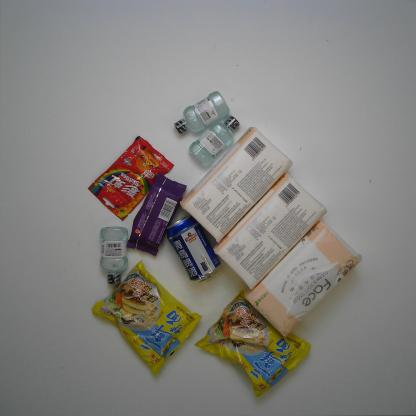Alcohol: (163, 216, 225, 286)
Candy: (86, 132, 176, 222)
Dessert: (122, 168, 188, 258)
Instant Noodles: (192, 288, 313, 400), (90, 260, 204, 378)
Personal Hygiene: (189, 114, 243, 168), (177, 88, 233, 138), (98, 225, 132, 288)
Tissue: (239, 219, 364, 340), (172, 122, 294, 243), (214, 169, 328, 292)
